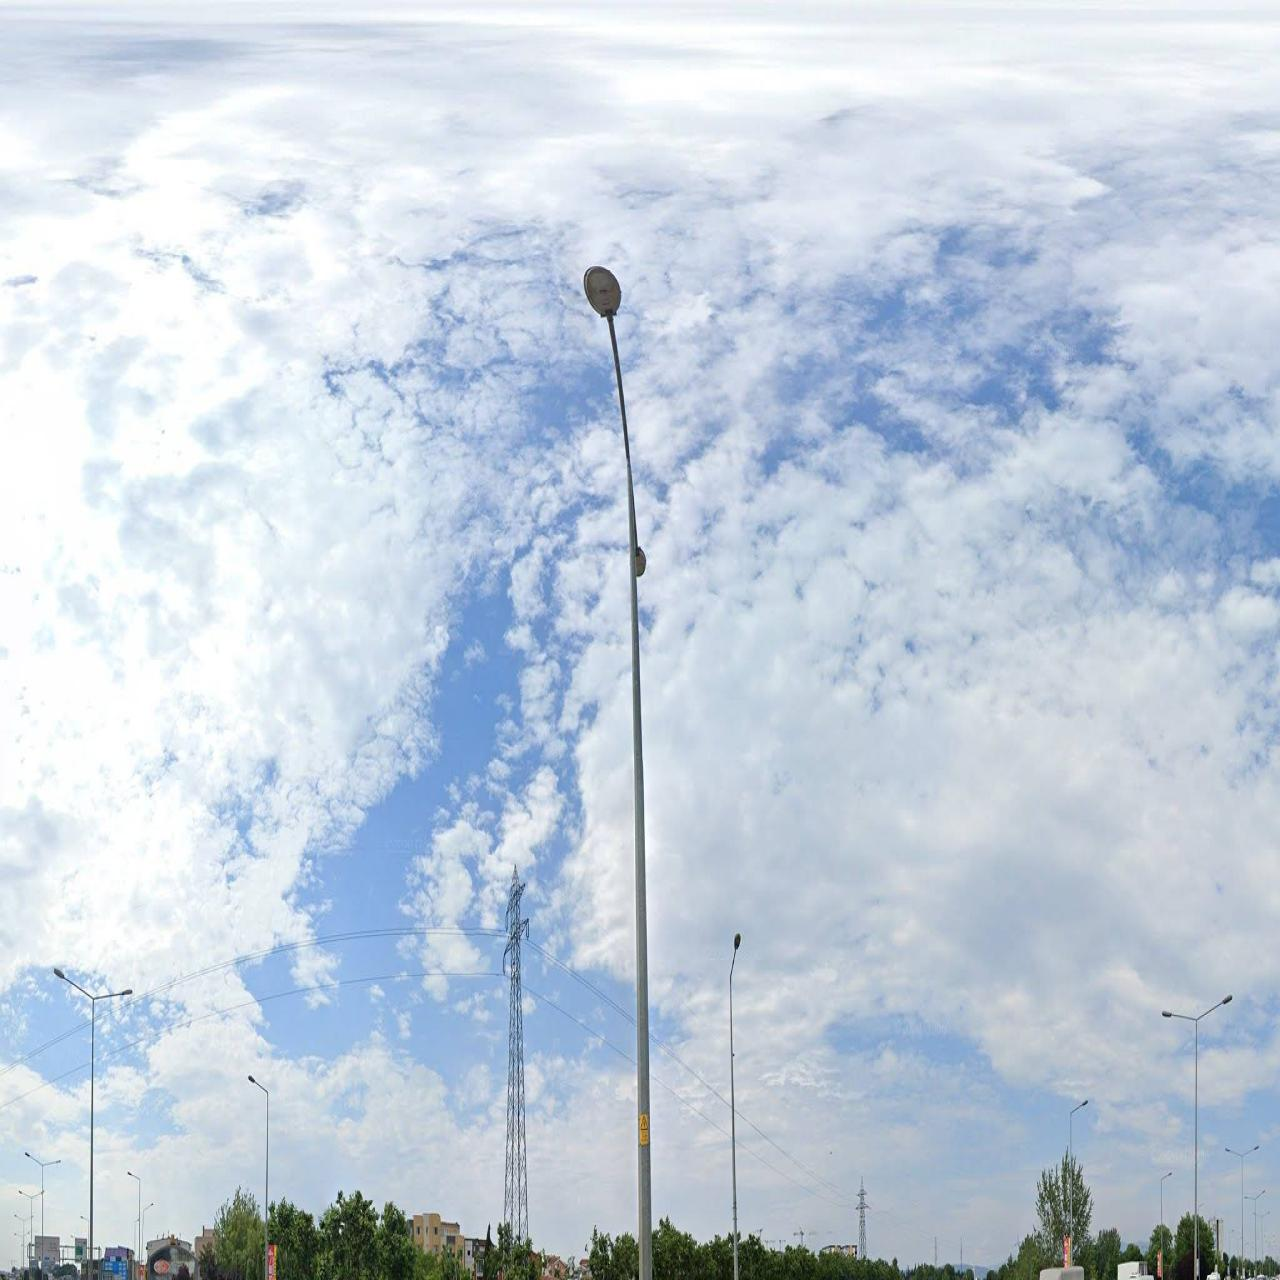Utility Pole Information Plate: (639, 1112, 649, 1146)
